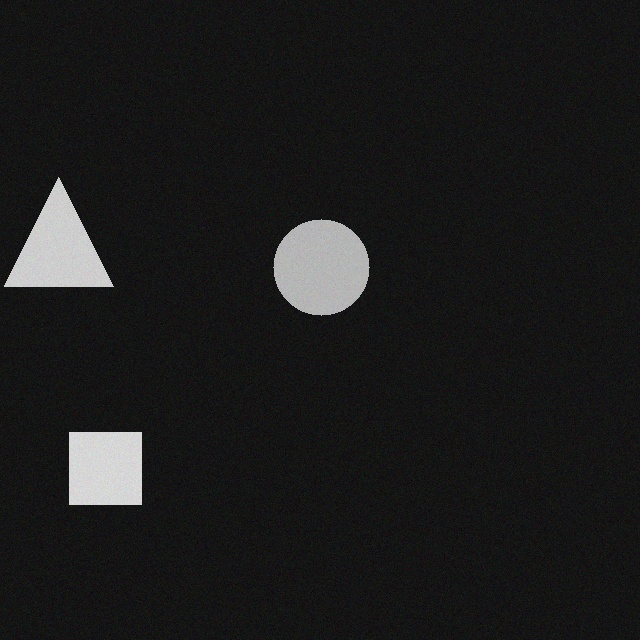circle: (275, 214, 371, 310)
square: (71, 427, 143, 499)
triangle: (6, 172, 115, 281)
